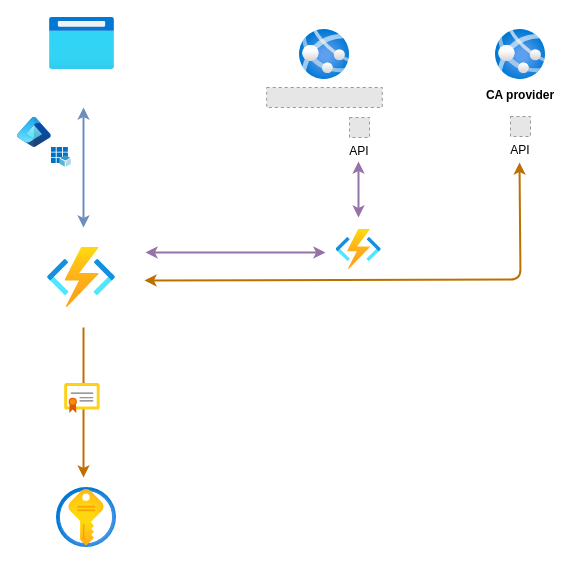
Image size: 582x585. Some labels were removed from this diagram. Grey dashed boxes stand in for pictures. The shapes that lost their labels are listed below. From the top down, each one's centre as x and y in pixels, then its label:
the point at 81,43: .../Dashboard
the point at 86,517: Key Vault
